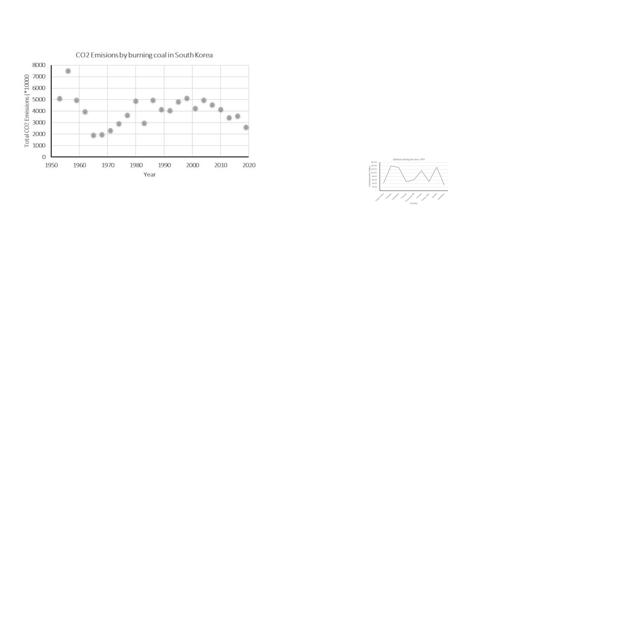Graph: (21, 49, 258, 180), (368, 157, 449, 205)
